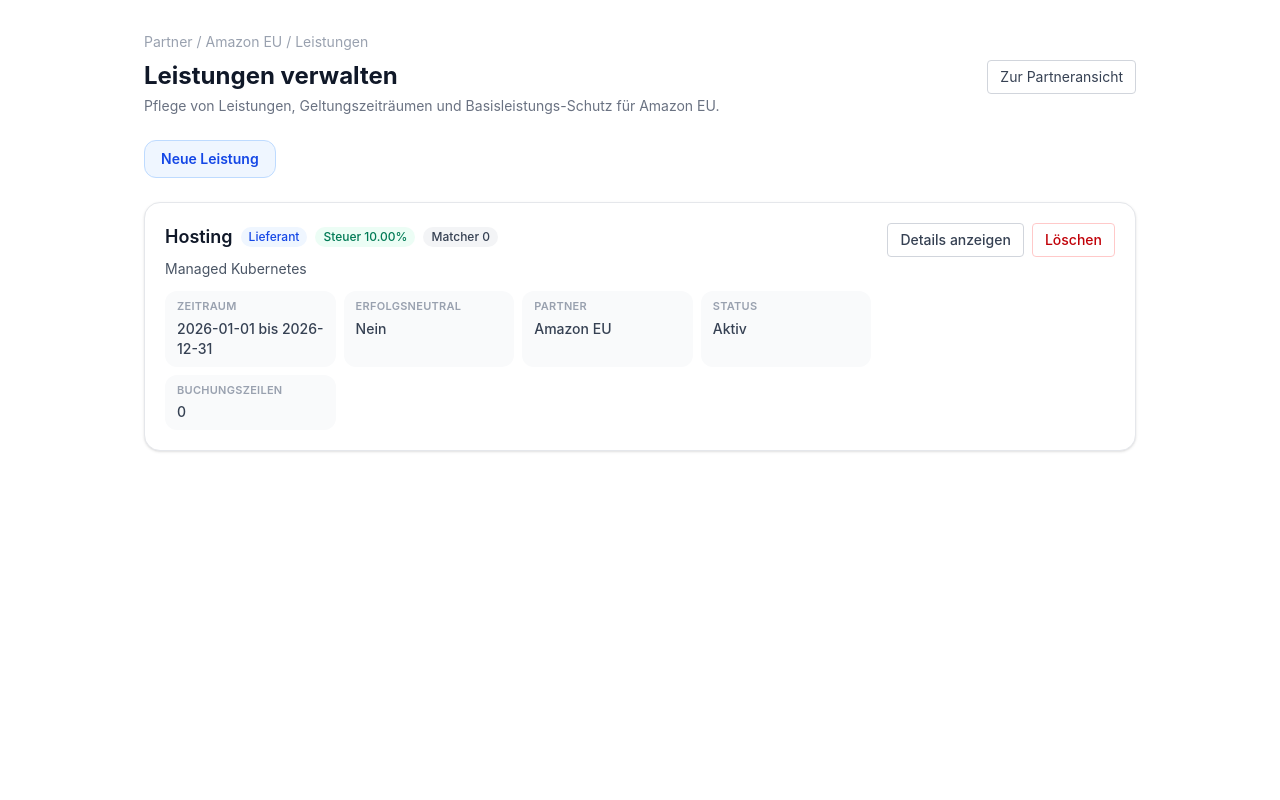
ServiceManagementPage › shows regex validation errors inline for matcher forms
expect the heading "Hosting" is shown: met, box [165,223,233,251]
Click the button with aria-label "Hosting Details anzeigen" at [956, 240], box [888,223,1024,257]
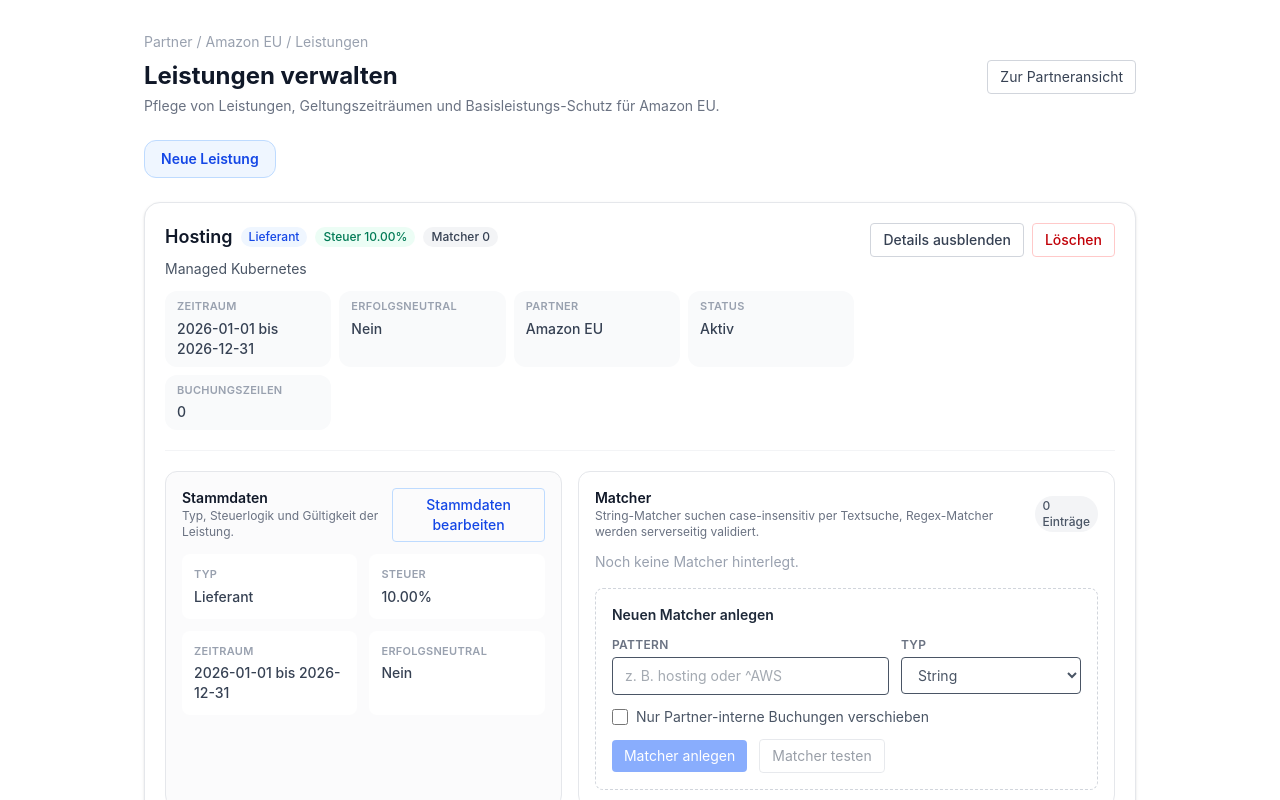
expect the button "Matcher anlegen" is disabled: met, box [612,740,747,772]
Type "(" into the field with placeholder "z. B. hosting oder ^AWS" at [750, 676], box [612,657,889,695]
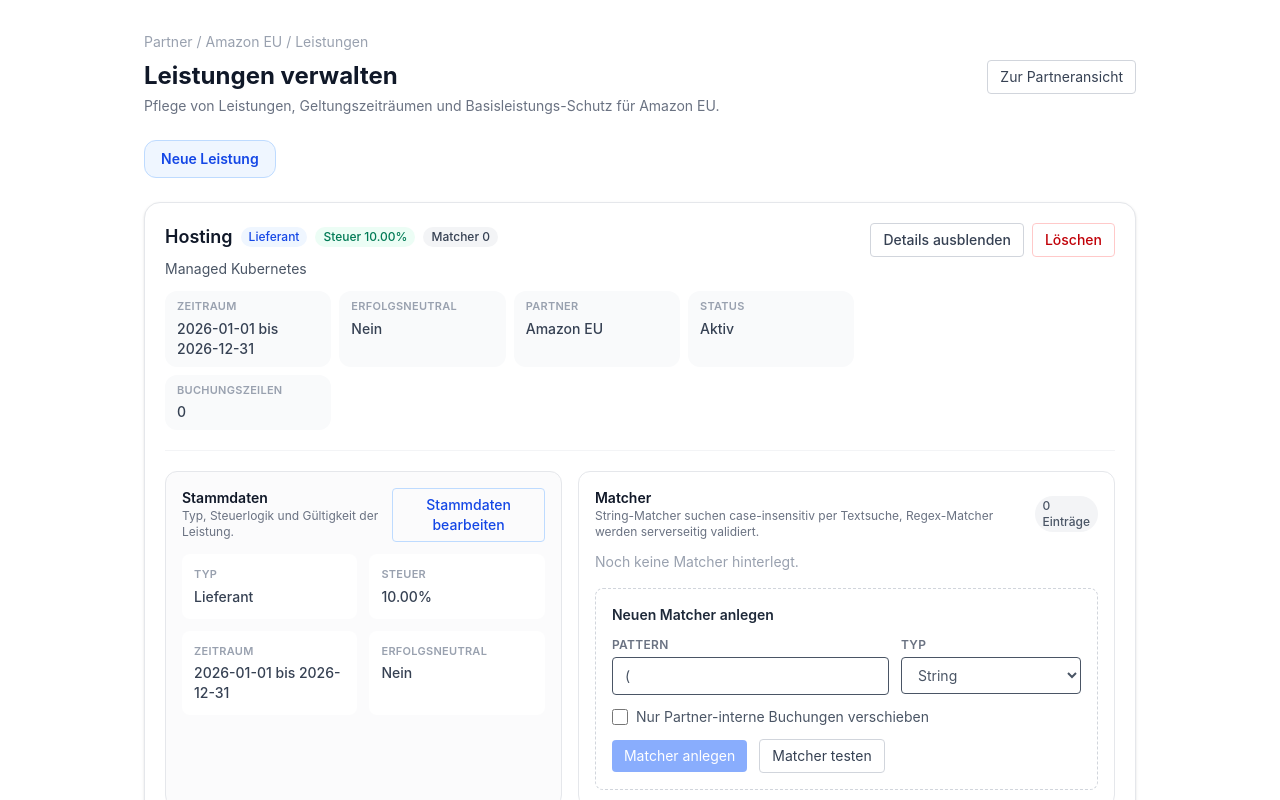
Select "Regex" in the dropdown showing "String" at [991, 676], box [901,657,1081,694]
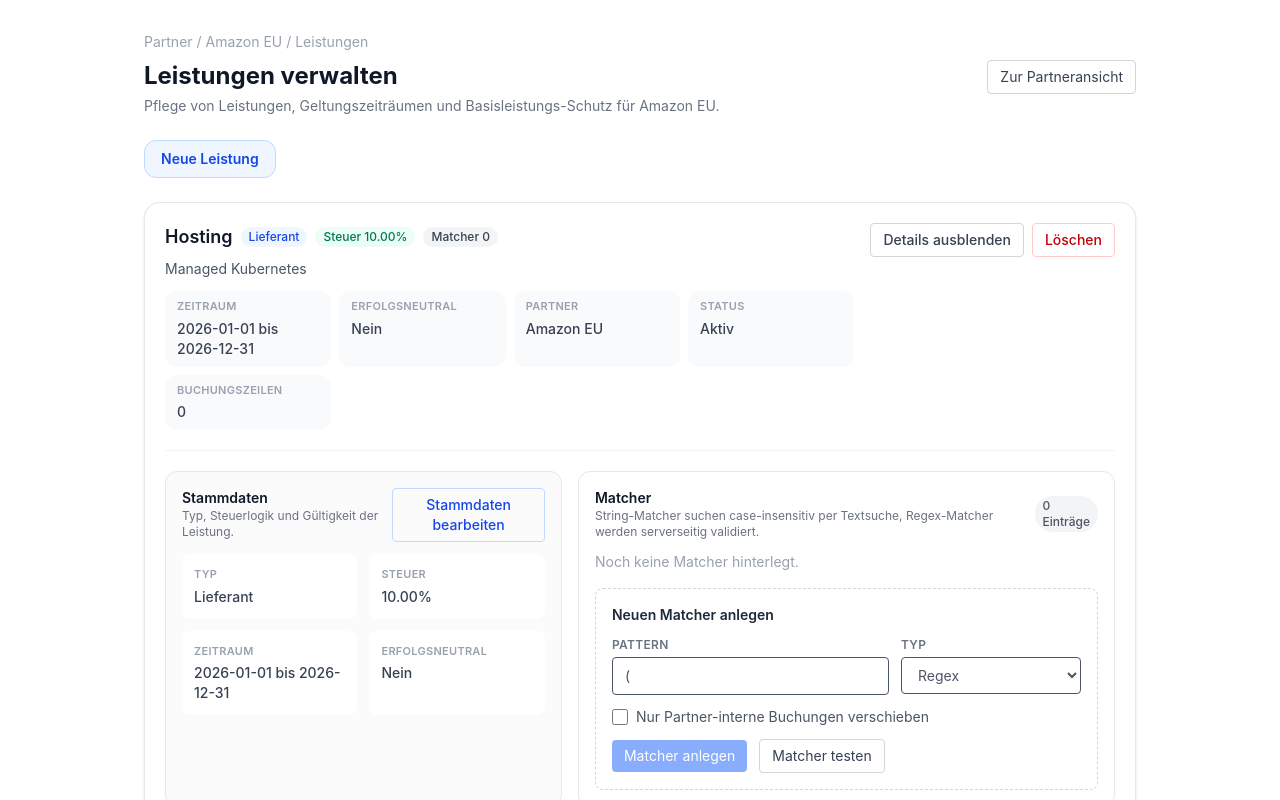
Click the button "Matcher testen" at [822, 756], box [759,739,885,773]
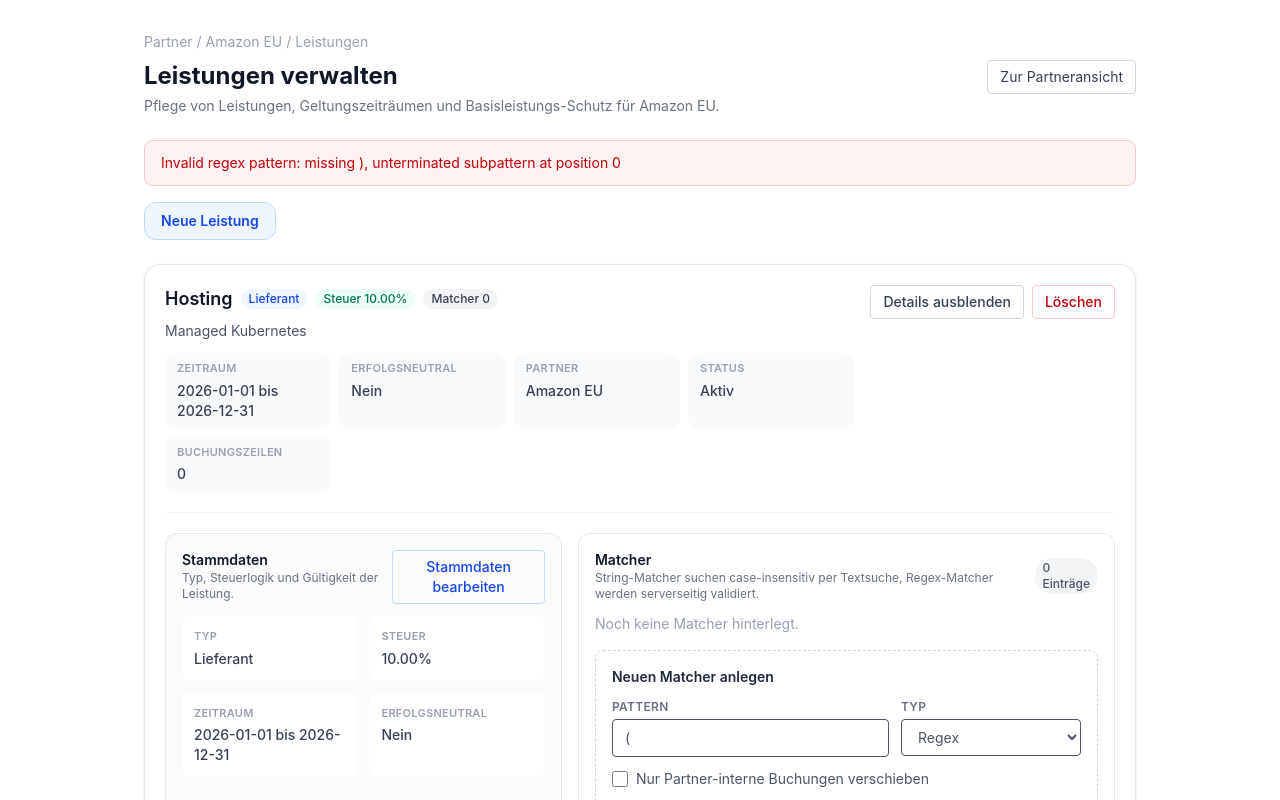
expect the text "Invalid regex pattern" is shown: met, box [161,154,621,171]
